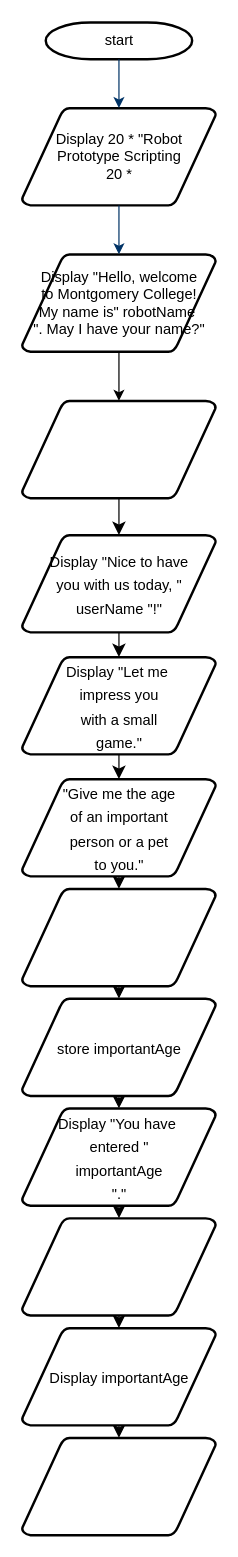
Image size: 238x1557. Some labels were removed from this diagram. The shapes that lost their labels are listed below. From the top down, each one's centre as x and y in pixels, then its label:
point (118, 449): store userName
point (118, 937): "Please give me only a number:"
point (118, 1266): Display "If this is for a person, the age can be expressed as:"
point (118, 1486): Display "or about"
